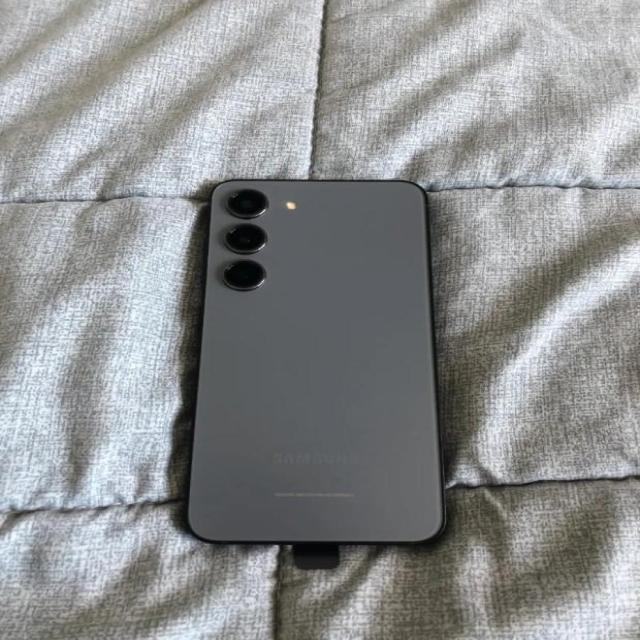Smartphone: (172, 168, 450, 545)
